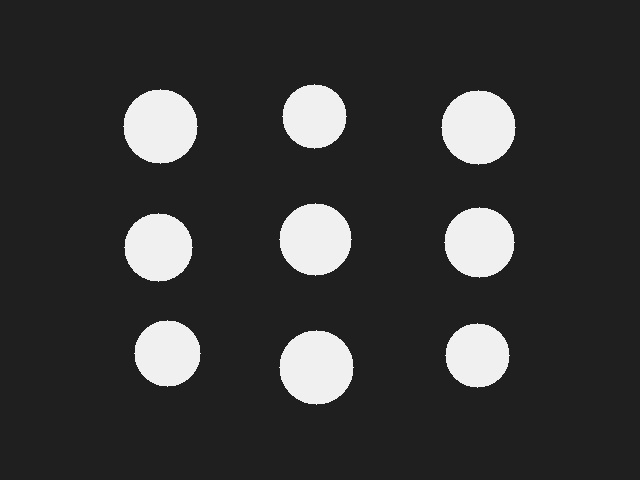hole: (123, 89, 197, 163), (441, 90, 515, 164), (279, 330, 353, 404), (279, 203, 351, 275), (444, 207, 514, 277), (124, 213, 192, 281), (134, 320, 200, 386), (282, 84, 346, 148), (445, 323, 509, 387)
